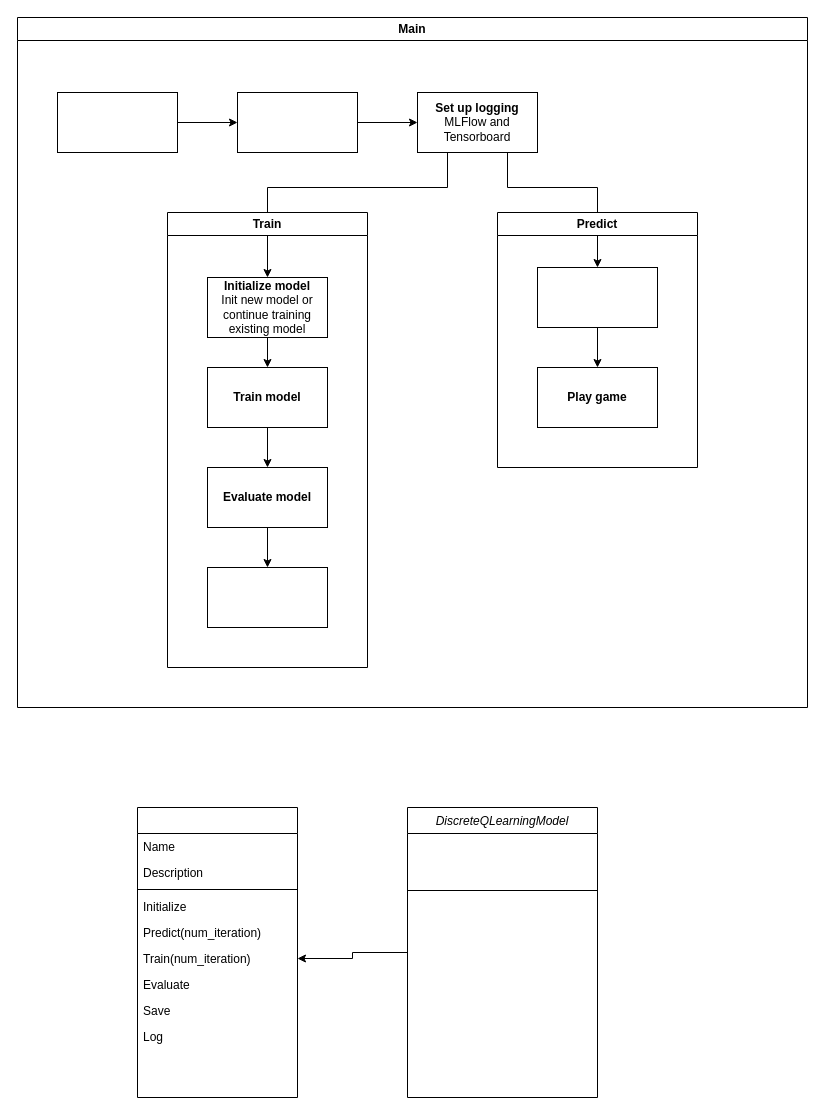
This 825x1115 diagram has some shape labels left out. Here are the shapes that lost their labels. From the top down, the box of each, then its label:
(56, 92, 178, 152): Argument parser
(236, 92, 358, 152): Set up game environment
(536, 266, 658, 328): Load model
(206, 566, 328, 628): Save model Local or model registry
(136, 806, 298, 1098): TensorFlowRLModel
